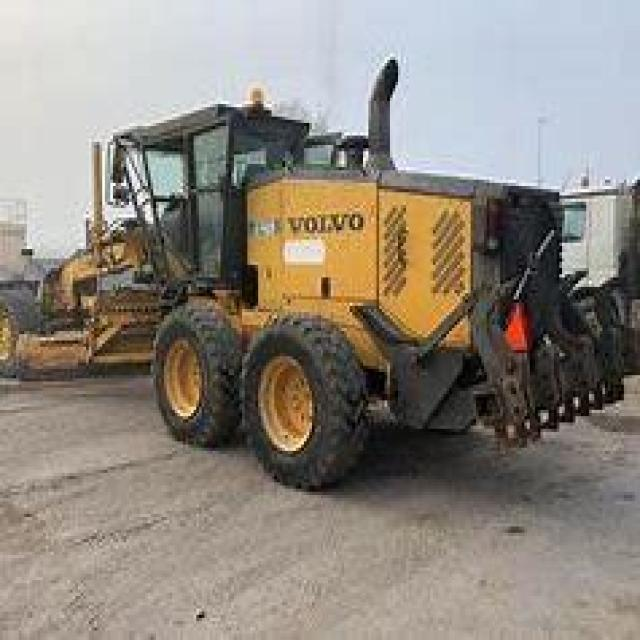buldozerpayloadergrader: (3, 94, 637, 486)
